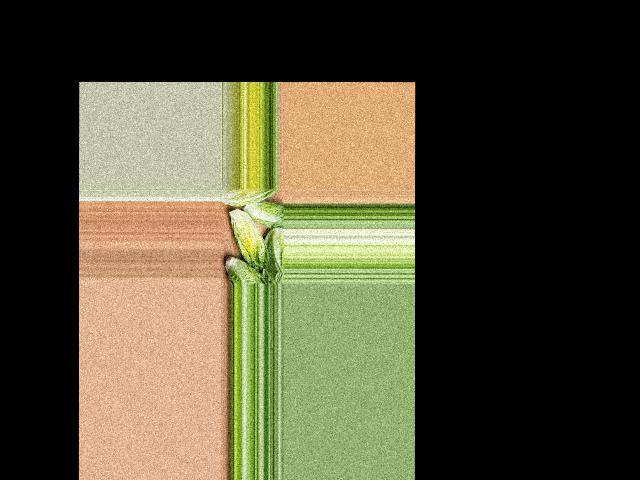lettuce: (222, 187, 277, 207)
